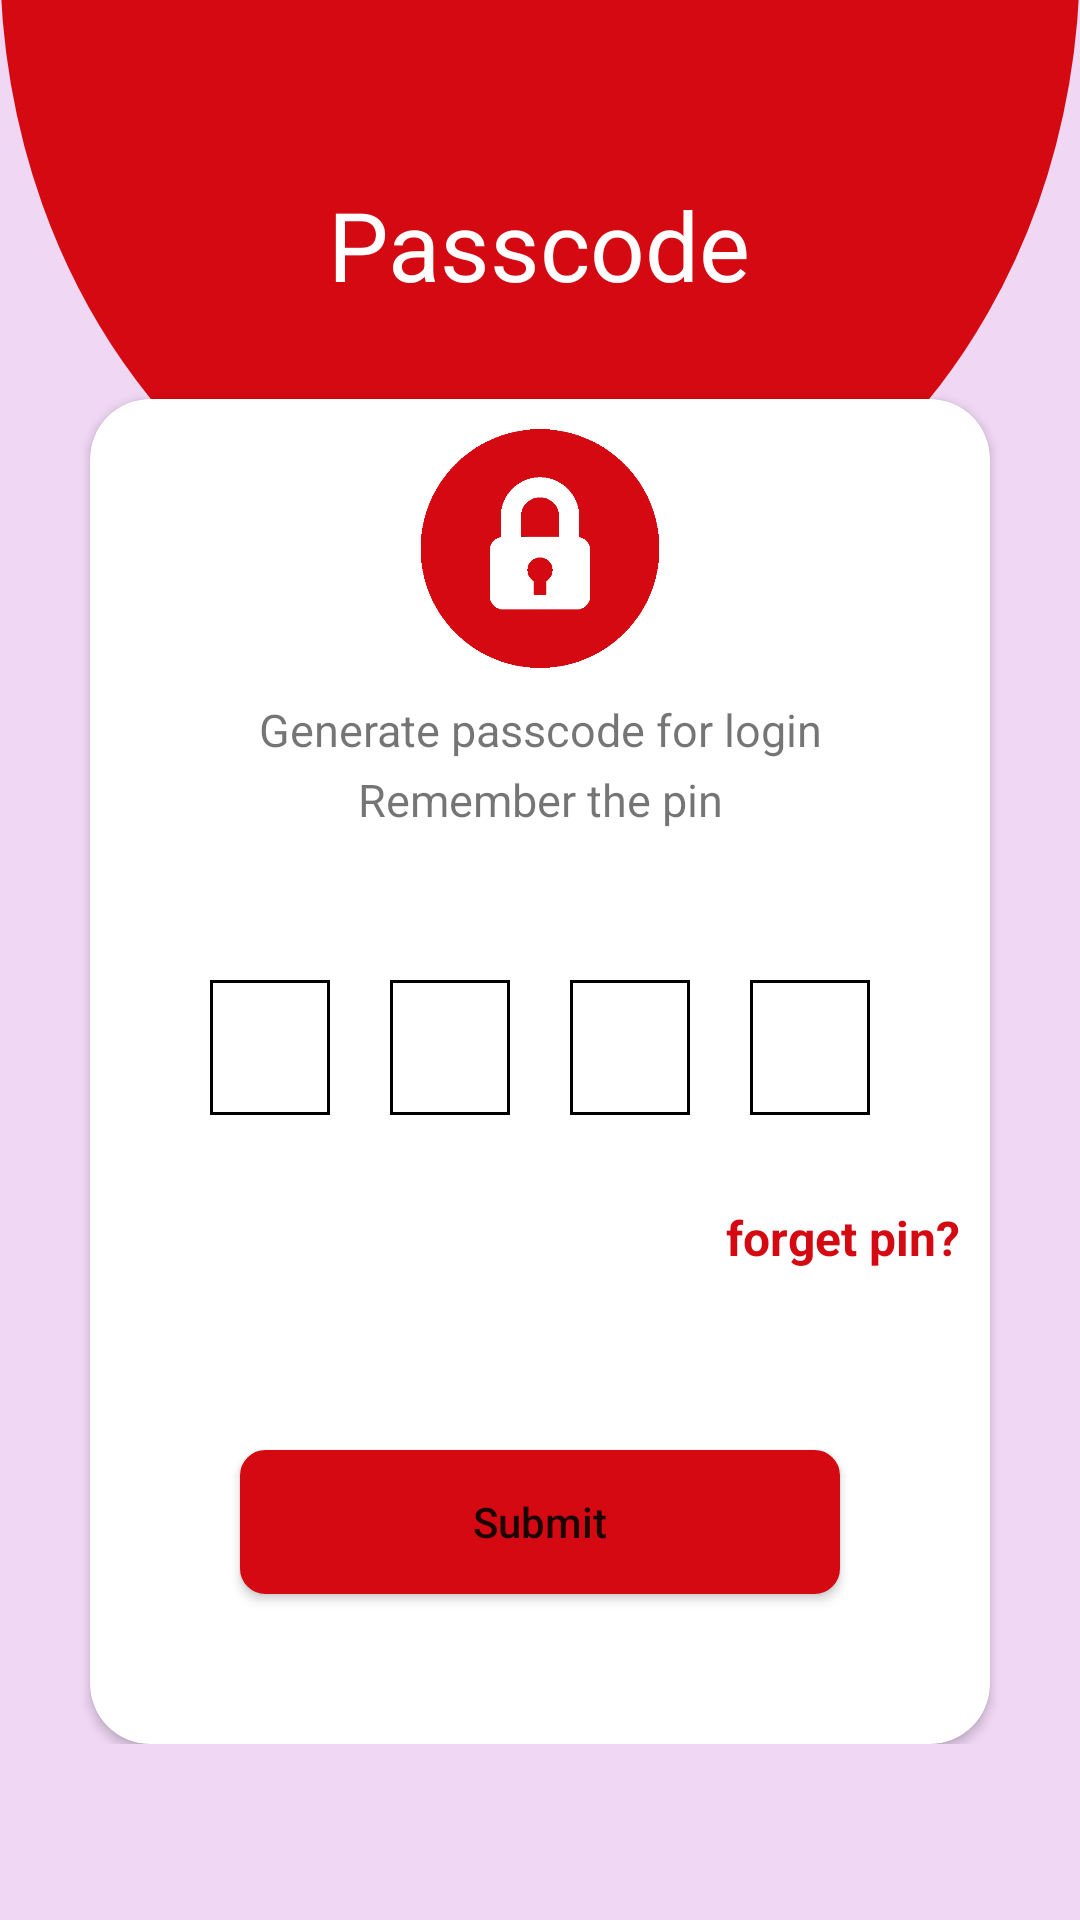

Where icons sit on this 1080×1920 app screen, as (x1, y1, x2, y2):
pin lock: (421, 429, 659, 668)
